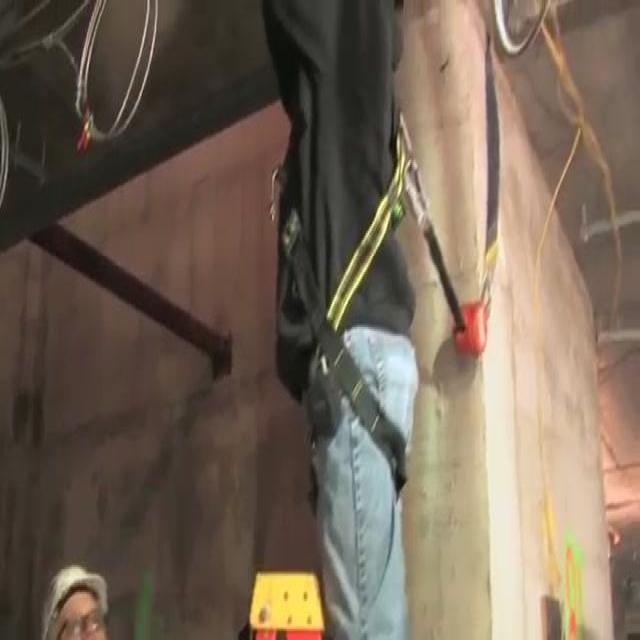Safety-Helmet: (35, 546, 119, 636)
